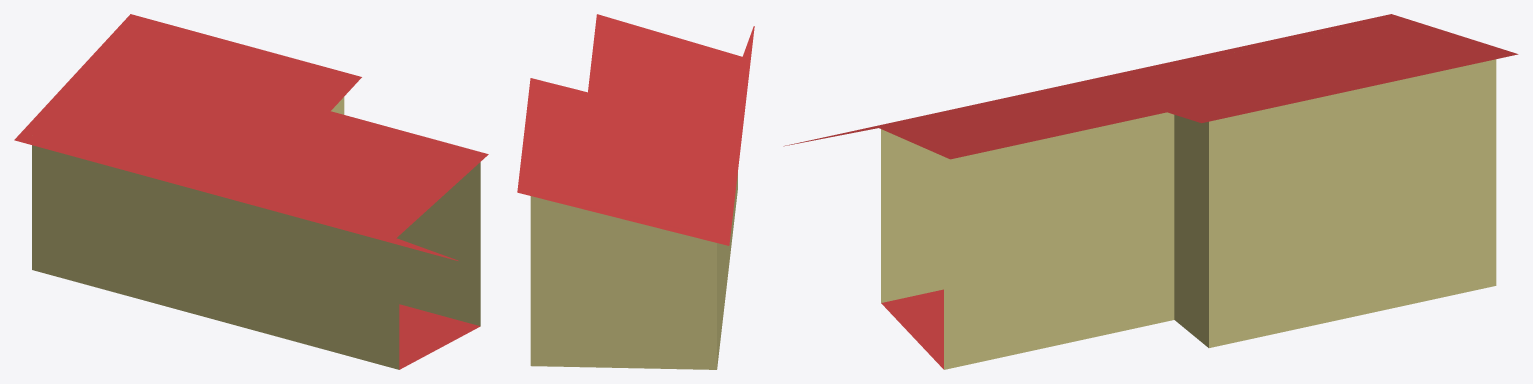
3 renders of one model, left to right at view 1: azimuth 30°, elevation 25°; view 2: azimuth 150°, elevation 25°; view 3: azimuth 270°, elevation 25°, orthographic. The views are drawn at different scales.
Size of the model in its own units: 13.45 by 21.74 by 7.65.
